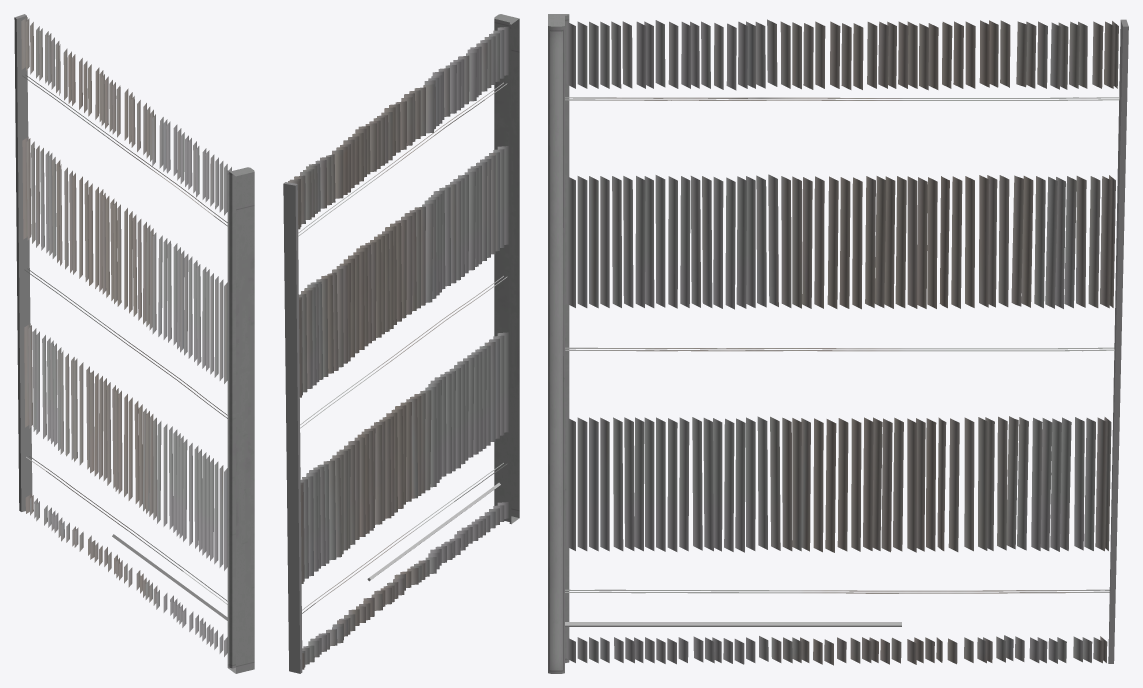
Rendered from venetian_blind_white_128x96_LOD0.obj.
The picture shows the model from 3 angles, left to right: view 1: azimuth 30°, elevation 25°; view 2: azimuth 150°, elevation 25°; view 3: azimuth 270°, elevation 25°; orthographic projection. The views are drawn at different scales.
Visible parts, largest first — view 1: mtl_plastic_windowshade_white, mtl_plastic_windowshade_white_top1, mtl_windowshade_string; view 2: mtl_plastic_windowshade_white, mtl_plastic_windowshade_white_top1, mtl_windowshade_string; view 3: mtl_plastic_windowshade_white, mtl_plastic_windowshade_white_top1, mtl_windowshade_string.
Boxes of the visible parts, box(x1,y1,x2,y2) form: mtl_plastic_windowshade_white: box(21, 17, 231, 656); mtl_plastic_windowshade_white_top1: box(14, 14, 254, 673); mtl_windowshade_string: box(22, 74, 227, 604); mtl_plastic_windowshade_white: box(288, 27, 508, 669); mtl_plastic_windowshade_white_top1: box(283, 14, 519, 673); mtl_windowshade_string: box(298, 82, 507, 613); mtl_plastic_windowshade_white: box(566, 19, 1118, 665); mtl_plastic_windowshade_white_top1: box(548, 14, 1128, 673); mtl_windowshade_string: box(565, 97, 1119, 593).
Size of the model in its own units: 13.56 by 324 by 263.
